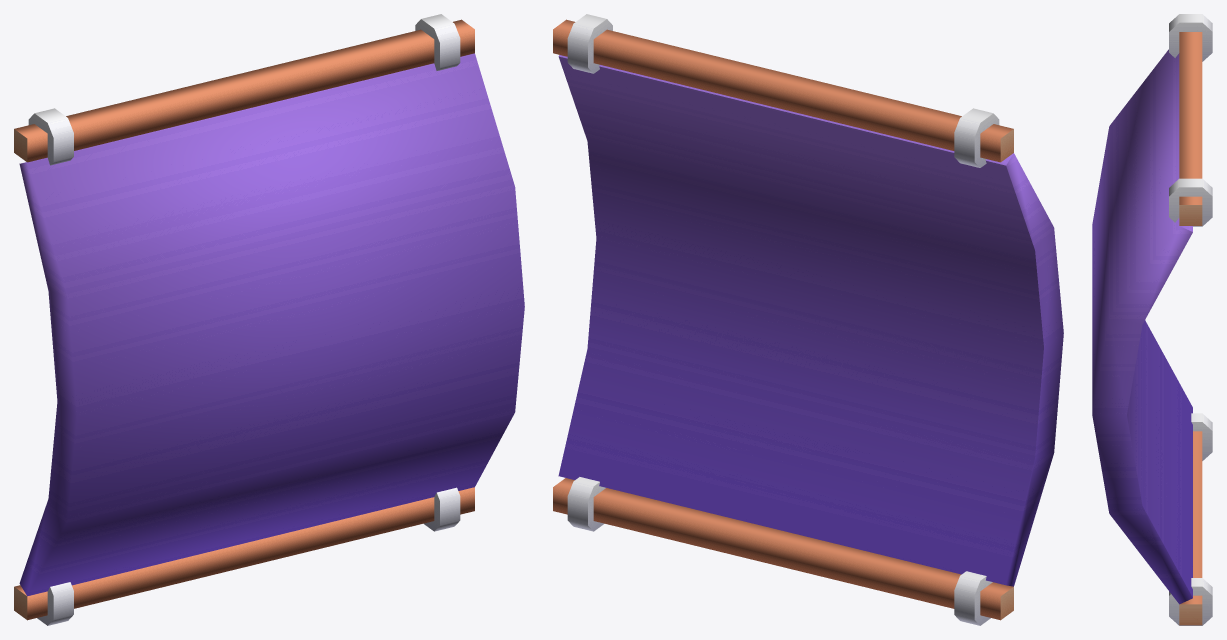
The model's file is sail_purple.glb.
3 views of the same model, side by side, from view 1: azimuth 30°, elevation 25°; view 2: azimuth 150°, elevation 25°; view 3: azimuth 270°, elevation 25° (orthographic). The views are drawn at different scales.
Visible parts, largest first — view 1: sail-a_purple; view 2: sail-a_purple; view 3: sail-a_purple.
Part boxes in pixels (<box>): sail-a_purple: <box>14,14,524,625</box>; sail-a_purple: <box>553,14,1063,625</box>; sail-a_purple: <box>1092,14,1212,625</box>.
Bounding box in the file's own units: 4.4 × 4.72 × 1.18.
Materials: 1 (1 with a texture image).
